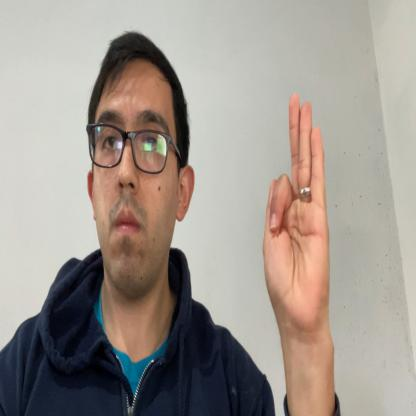F: (264, 92, 329, 332)
